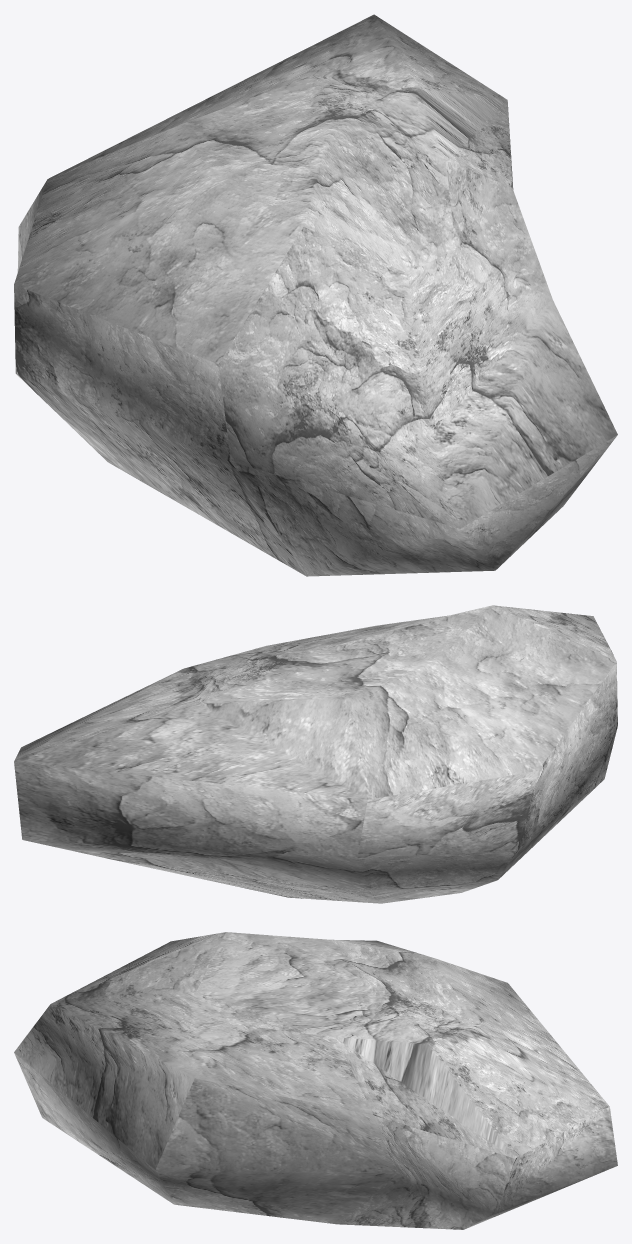
The model's file is Rock_04.fbx.
3 views of the same model, one above another, from view 1: azimuth 30°, elevation 25°; view 2: azimuth 150°, elevation 25°; view 3: azimuth 270°, elevation 25° (orthographic). The views are drawn at different scales.
Visible parts, largest first — view 1: Rock_04; view 2: Rock_04; view 3: Rock_04.
Boxes of the visible parts, <box> form: Rock_04: <box>14,14,617,576</box>; Rock_04: <box>14,605,617,903</box>; Rock_04: <box>14,932,617,1229</box>.
Size of the model in its own units: 1972 by 1128 by 2608.
